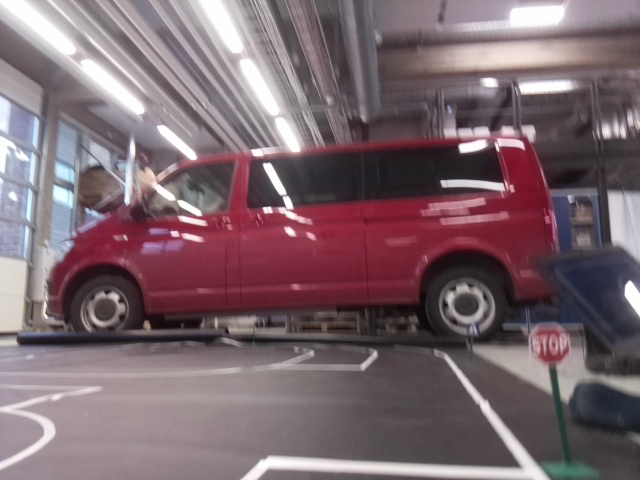Crosswalk: (468, 323, 479, 338)
Stop: (525, 321, 571, 365)
